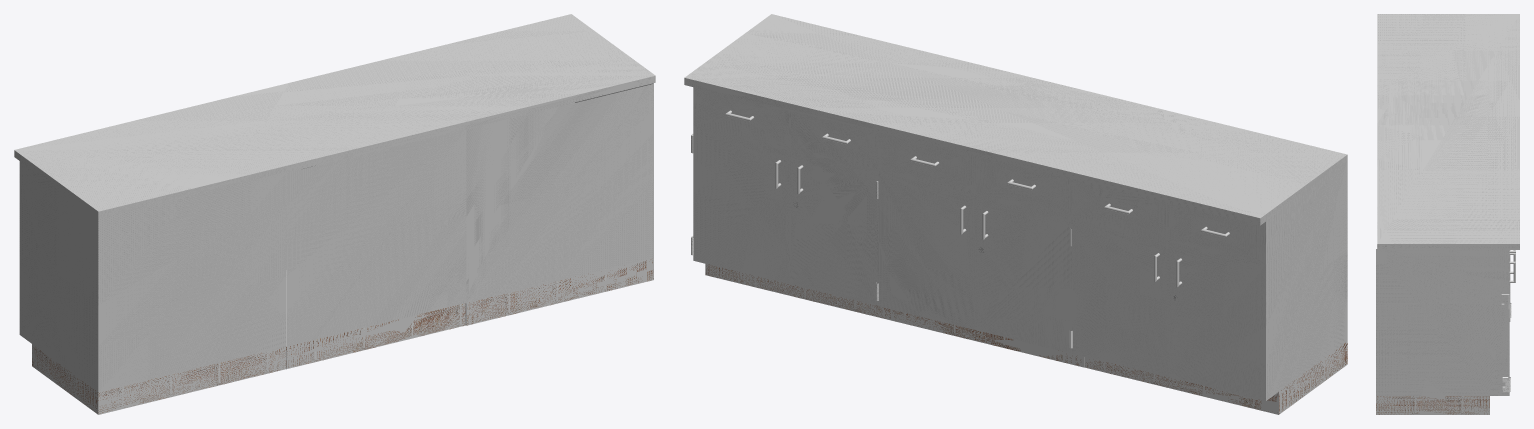
The picture shows the model from 3 angles, left to right: view 1: azimuth 30°, elevation 25°; view 2: azimuth 150°, elevation 25°; view 3: azimuth 270°, elevation 25°; orthographic projection. The views are drawn at different scales.
Parts seen in each view (by area): view 1: mesh6_mesh6-geometry, mesh1_mesh1-geometry; view 2: mesh6_mesh6-geometry, mesh1_mesh1-geometry; view 3: mesh6_mesh6-geometry, mesh1_mesh1-geometry.
Boxes of the visible parts, x1,y1,x2,y2 form: mesh6_mesh6-geometry: (14,14,655,414); mesh1_mesh1-geometry: (286,83,653,369); mesh6_mesh6-geometry: (684,14,1347,414); mesh1_mesh1-geometry: (691,87,1084,367); mesh6_mesh6-geometry: (1377,14,1519,249); mesh1_mesh1-geometry: (1376,244,1515,414).
Size of the model in its own units: 0.9163 by 0.3193 by 0.2418.
